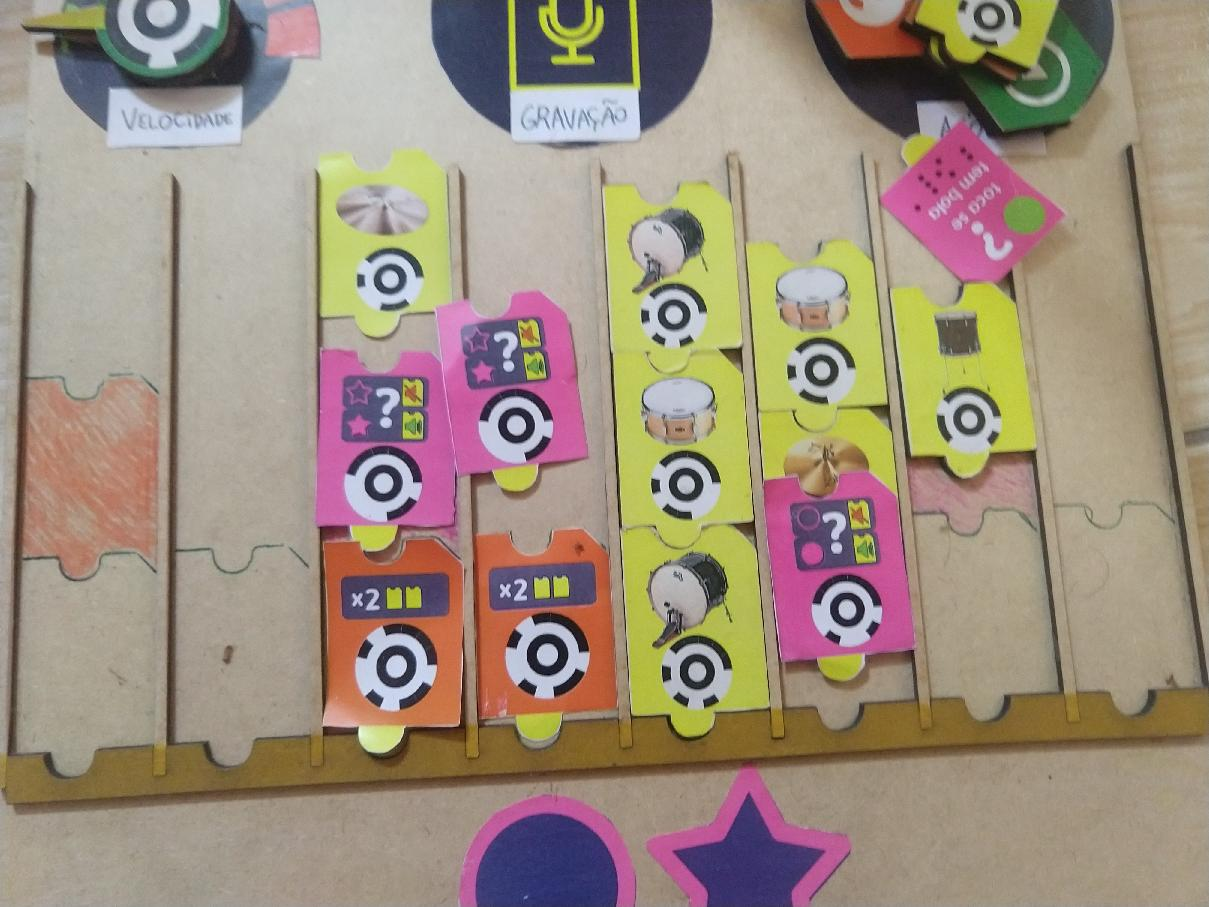bumbo: (622, 522, 772, 741), (602, 181, 747, 371)
